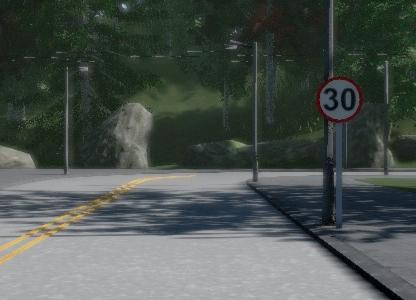Speed_30: (312, 75, 365, 127)
